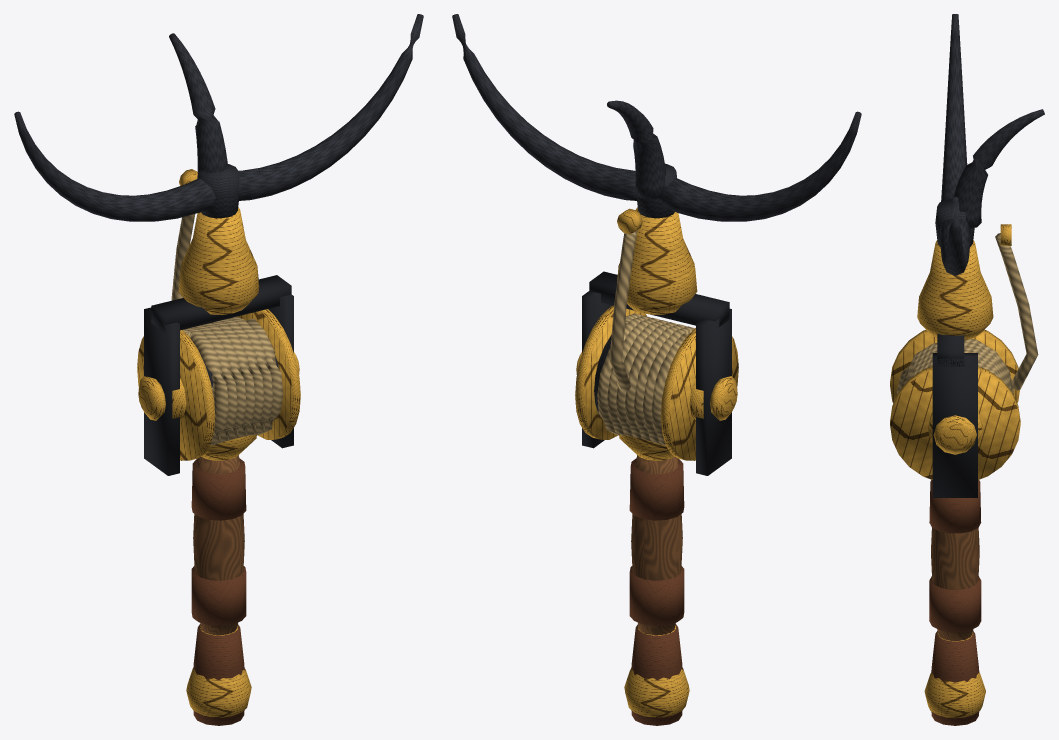
File: swallow_line.glb
3 views of the same model, side by side, from view 1: azimuth 30°, elevation 25°; view 2: azimuth 150°, elevation 25°; view 3: azimuth 270°, elevation 25° (orthographic). The views are drawn at different scales.
Parts seen in each view (by area): view 1: Steel_body, Brass_body, Spool_rope, Leather_wrap, Spool_brass, Wood_grip, Rope_lead; view 2: Steel_body, Brass_body, Leather_wrap, Spool_rope, Spool_brass, Wood_grip, Rope_lead; view 3: Steel_body, Spool_brass, Brass_body, Leather_wrap, Wood_grip, Rope_lead, Spool_rope.
Part boxes in pixels (bbox=[...]): Steel_body: bbox=[14, 14, 423, 475]; Brass_body: bbox=[138, 169, 299, 717]; Spool_rope: bbox=[183, 316, 282, 445]; Leather_wrap: bbox=[191, 458, 246, 725]; Spool_brass: bbox=[137, 309, 300, 460]; Wood_grip: bbox=[193, 455, 244, 635]; Rope_lead: bbox=[171, 214, 195, 300]; Steel_body: bbox=[452, 14, 861, 475]; Brass_body: bbox=[576, 207, 737, 717]; Leather_wrap: bbox=[629, 458, 684, 725]; Spool_rope: bbox=[597, 313, 694, 445]; Spool_brass: bbox=[575, 305, 738, 460]; Wood_grip: bbox=[631, 455, 682, 635]; Rope_lead: bbox=[609, 230, 637, 391]; Steel_body: bbox=[932, 14, 1044, 497]; Spool_brass: bbox=[890, 329, 1020, 479]; Brass_body: bbox=[917, 224, 1011, 718]; Leather_wrap: bbox=[929, 479, 981, 725]; Wood_grip: bbox=[931, 527, 979, 640]; Rope_lead: bbox=[995, 233, 1038, 390]; Spool_rope: bbox=[897, 338, 1013, 394].
Size of the model in its own units: 0.4874 by 0.7424 by 0.1708.
Materials: 5 (5 with a texture image).
